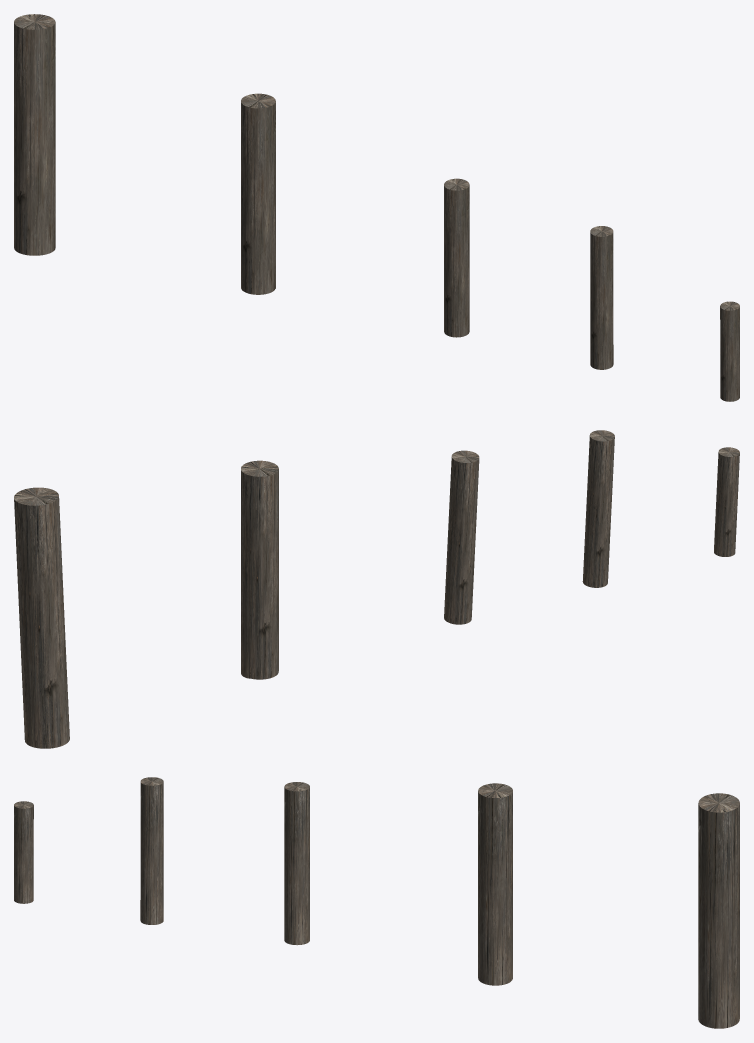
The model's file is CliffPosts.obj.
3 renders of one model, top to bottom at view 1: azimuth 90°, elevation 25°; view 2: azimuth 150°, elevation 25°; view 3: azimuth 270°, elevation 25°, orthographic. The views are drawn at different scales.
Parts seen in each view (by area): view 1: Cylinder.005; view 2: Cylinder.005; view 3: Cylinder.005.
Boxes of the visible parts, left/top/right/bottom form: Cylinder.005: left=14, top=14, right=739, bottom=401; Cylinder.005: left=14, top=430, right=739, bottom=748; Cylinder.005: left=14, top=777, right=739, bottom=1028.
Bounding box in the file's own units: 0.1595 × 0.1147 × 0.3177.
